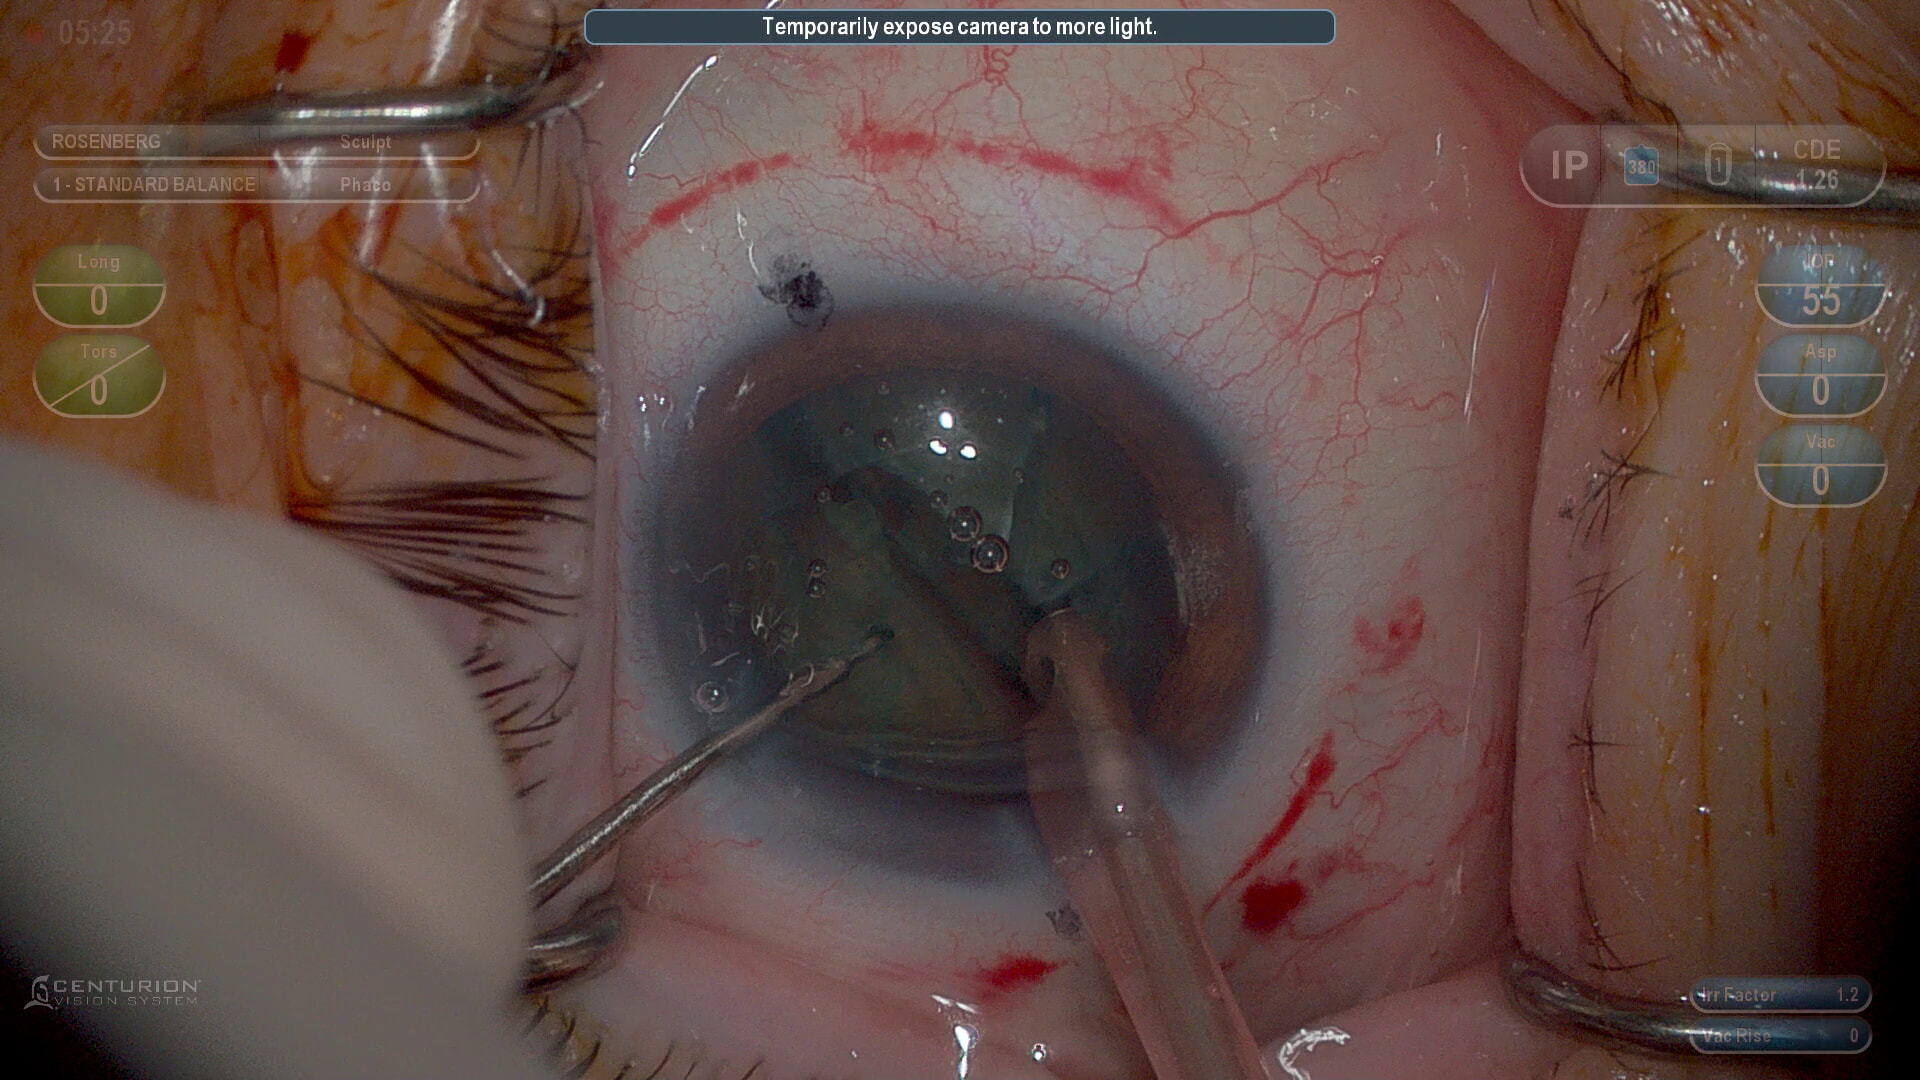iris: (654, 309, 1271, 873)
pupil: (727, 370, 1186, 789)
